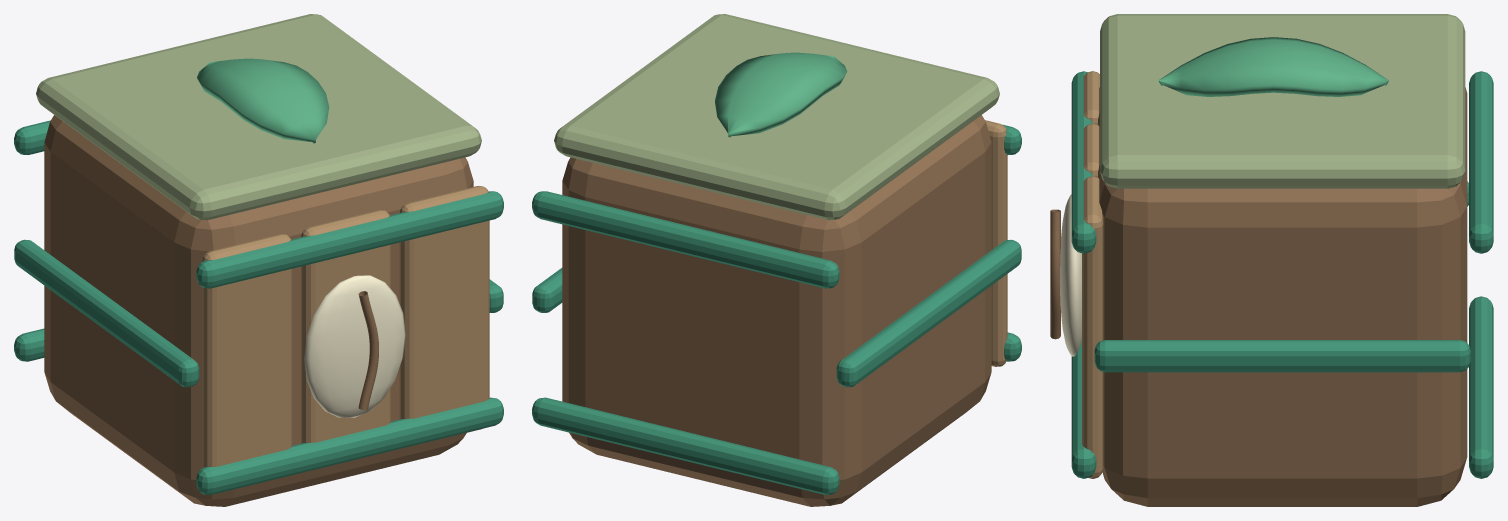
Rendered from rainforest_crate.glb.
3 views of the same model, side by side, from view 1: azimuth 30°, elevation 25°; view 2: azimuth 150°, elevation 25°; view 3: azimuth 270°, elevation 25° (orthographic). The views are drawn at different scales.
Parts seen in each view (by area): view 1: Batched V2 rainforest wood, Batched V2 rainforest stone_light, Batched V2 rainforest pale bark, Batched V2 rainforest leaf, Batched V2 rainforest ivory, Batched V2 rainforest middle foliage; view 2: Batched V2 rainforest wood, Batched V2 rainforest stone_light, Batched V2 rainforest leaf, Batched V2 rainforest middle foliage, Batched V2 rainforest pale bark; view 3: Batched V2 rainforest wood, Batched V2 rainforest stone_light, Batched V2 rainforest leaf, Batched V2 rainforest middle foliage, Batched V2 rainforest pale bark, Batched V2 rainforest ivory.
Part boxes in pixels (left/top/right/bottom): Batched V2 rainforest wood: left=44, top=115, right=473, bottom=506; Batched V2 rainforest stone_light: left=36, top=14, right=481, bottom=220; Batched V2 rainforest pale bark: left=202, top=186, right=489, bottom=494; Batched V2 rainforest leaf: left=14, top=120, right=503, bottom=494; Batched V2 rainforest ivory: left=304, top=275, right=405, bottom=417; Batched V2 rainforest middle foliage: left=197, top=58, right=329, bottom=143; Batched V2 rainforest wood: left=562, top=115, right=991, bottom=506; Batched V2 rainforest stone_light: left=554, top=14, right=999, bottom=220; Batched V2 rainforest leaf: left=532, top=124, right=1021, bottom=494; Batched V2 rainforest middle foliage: left=715, top=52, right=847, bottom=137; Batched V2 rainforest pale bark: left=985, top=120, right=1007, bottom=366; Batched V2 rainforest wood: left=1050, top=87, right=1467, bottom=506; Batched V2 rainforest stone_light: left=1100, top=14, right=1465, bottom=188; Batched V2 rainforest leaf: left=1071, top=71, right=1493, bottom=478; Batched V2 rainforest middle foliage: left=1158, top=37, right=1388, bottom=96; Batched V2 rainforest pale bark: left=1082, top=71, right=1103, bottom=478; Batched V2 rainforest ivory: left=1059, top=194, right=1081, bottom=356.
Size of the model in its own units: 1.15 by 1.23 by 1.25.
